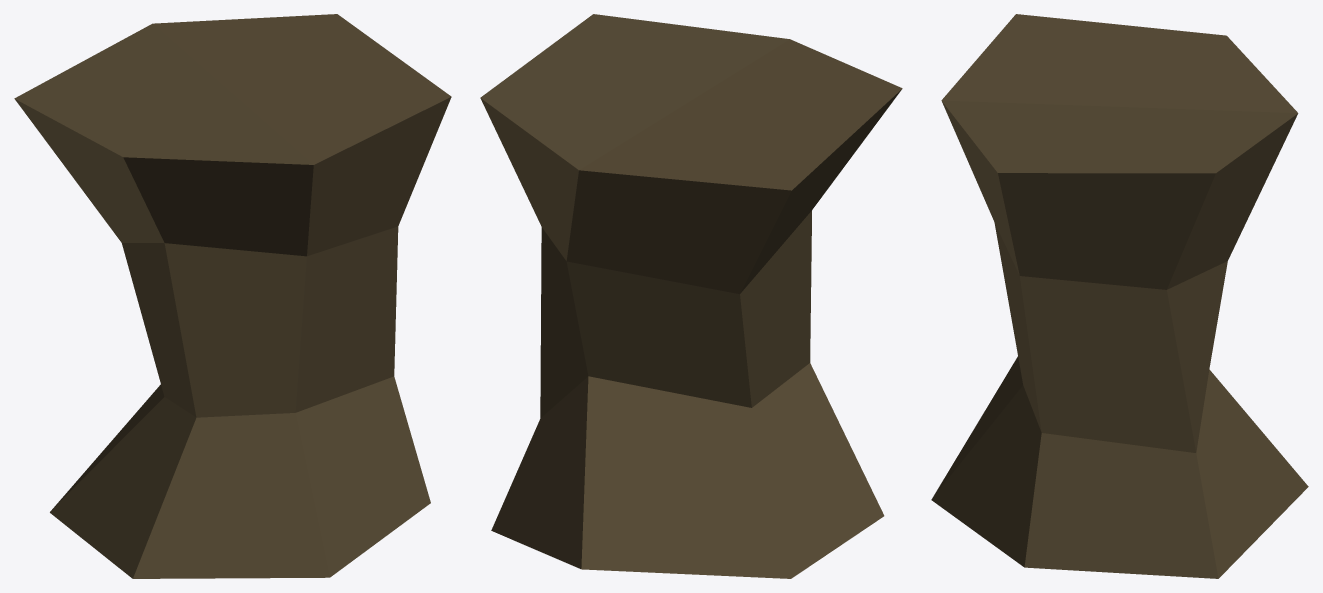
File: SmallPillar.3.fbx
3 views of the same model, side by side, from view 1: azimuth 30°, elevation 25°; view 2: azimuth 150°, elevation 25°; view 3: azimuth 270°, elevation 25° (orthographic). The views are drawn at different scales.
Visible parts, largest first — view 1: Small_Pillar.3; view 2: Small_Pillar.3; view 3: Small_Pillar.3.
Part boxes in pixels (x1,y1,x2,y2): Small_Pillar.3: (14, 14, 451, 578); Small_Pillar.3: (480, 14, 902, 578); Small_Pillar.3: (931, 14, 1308, 578).
Bounding box in the file's own units: 389 × 513 × 416.
